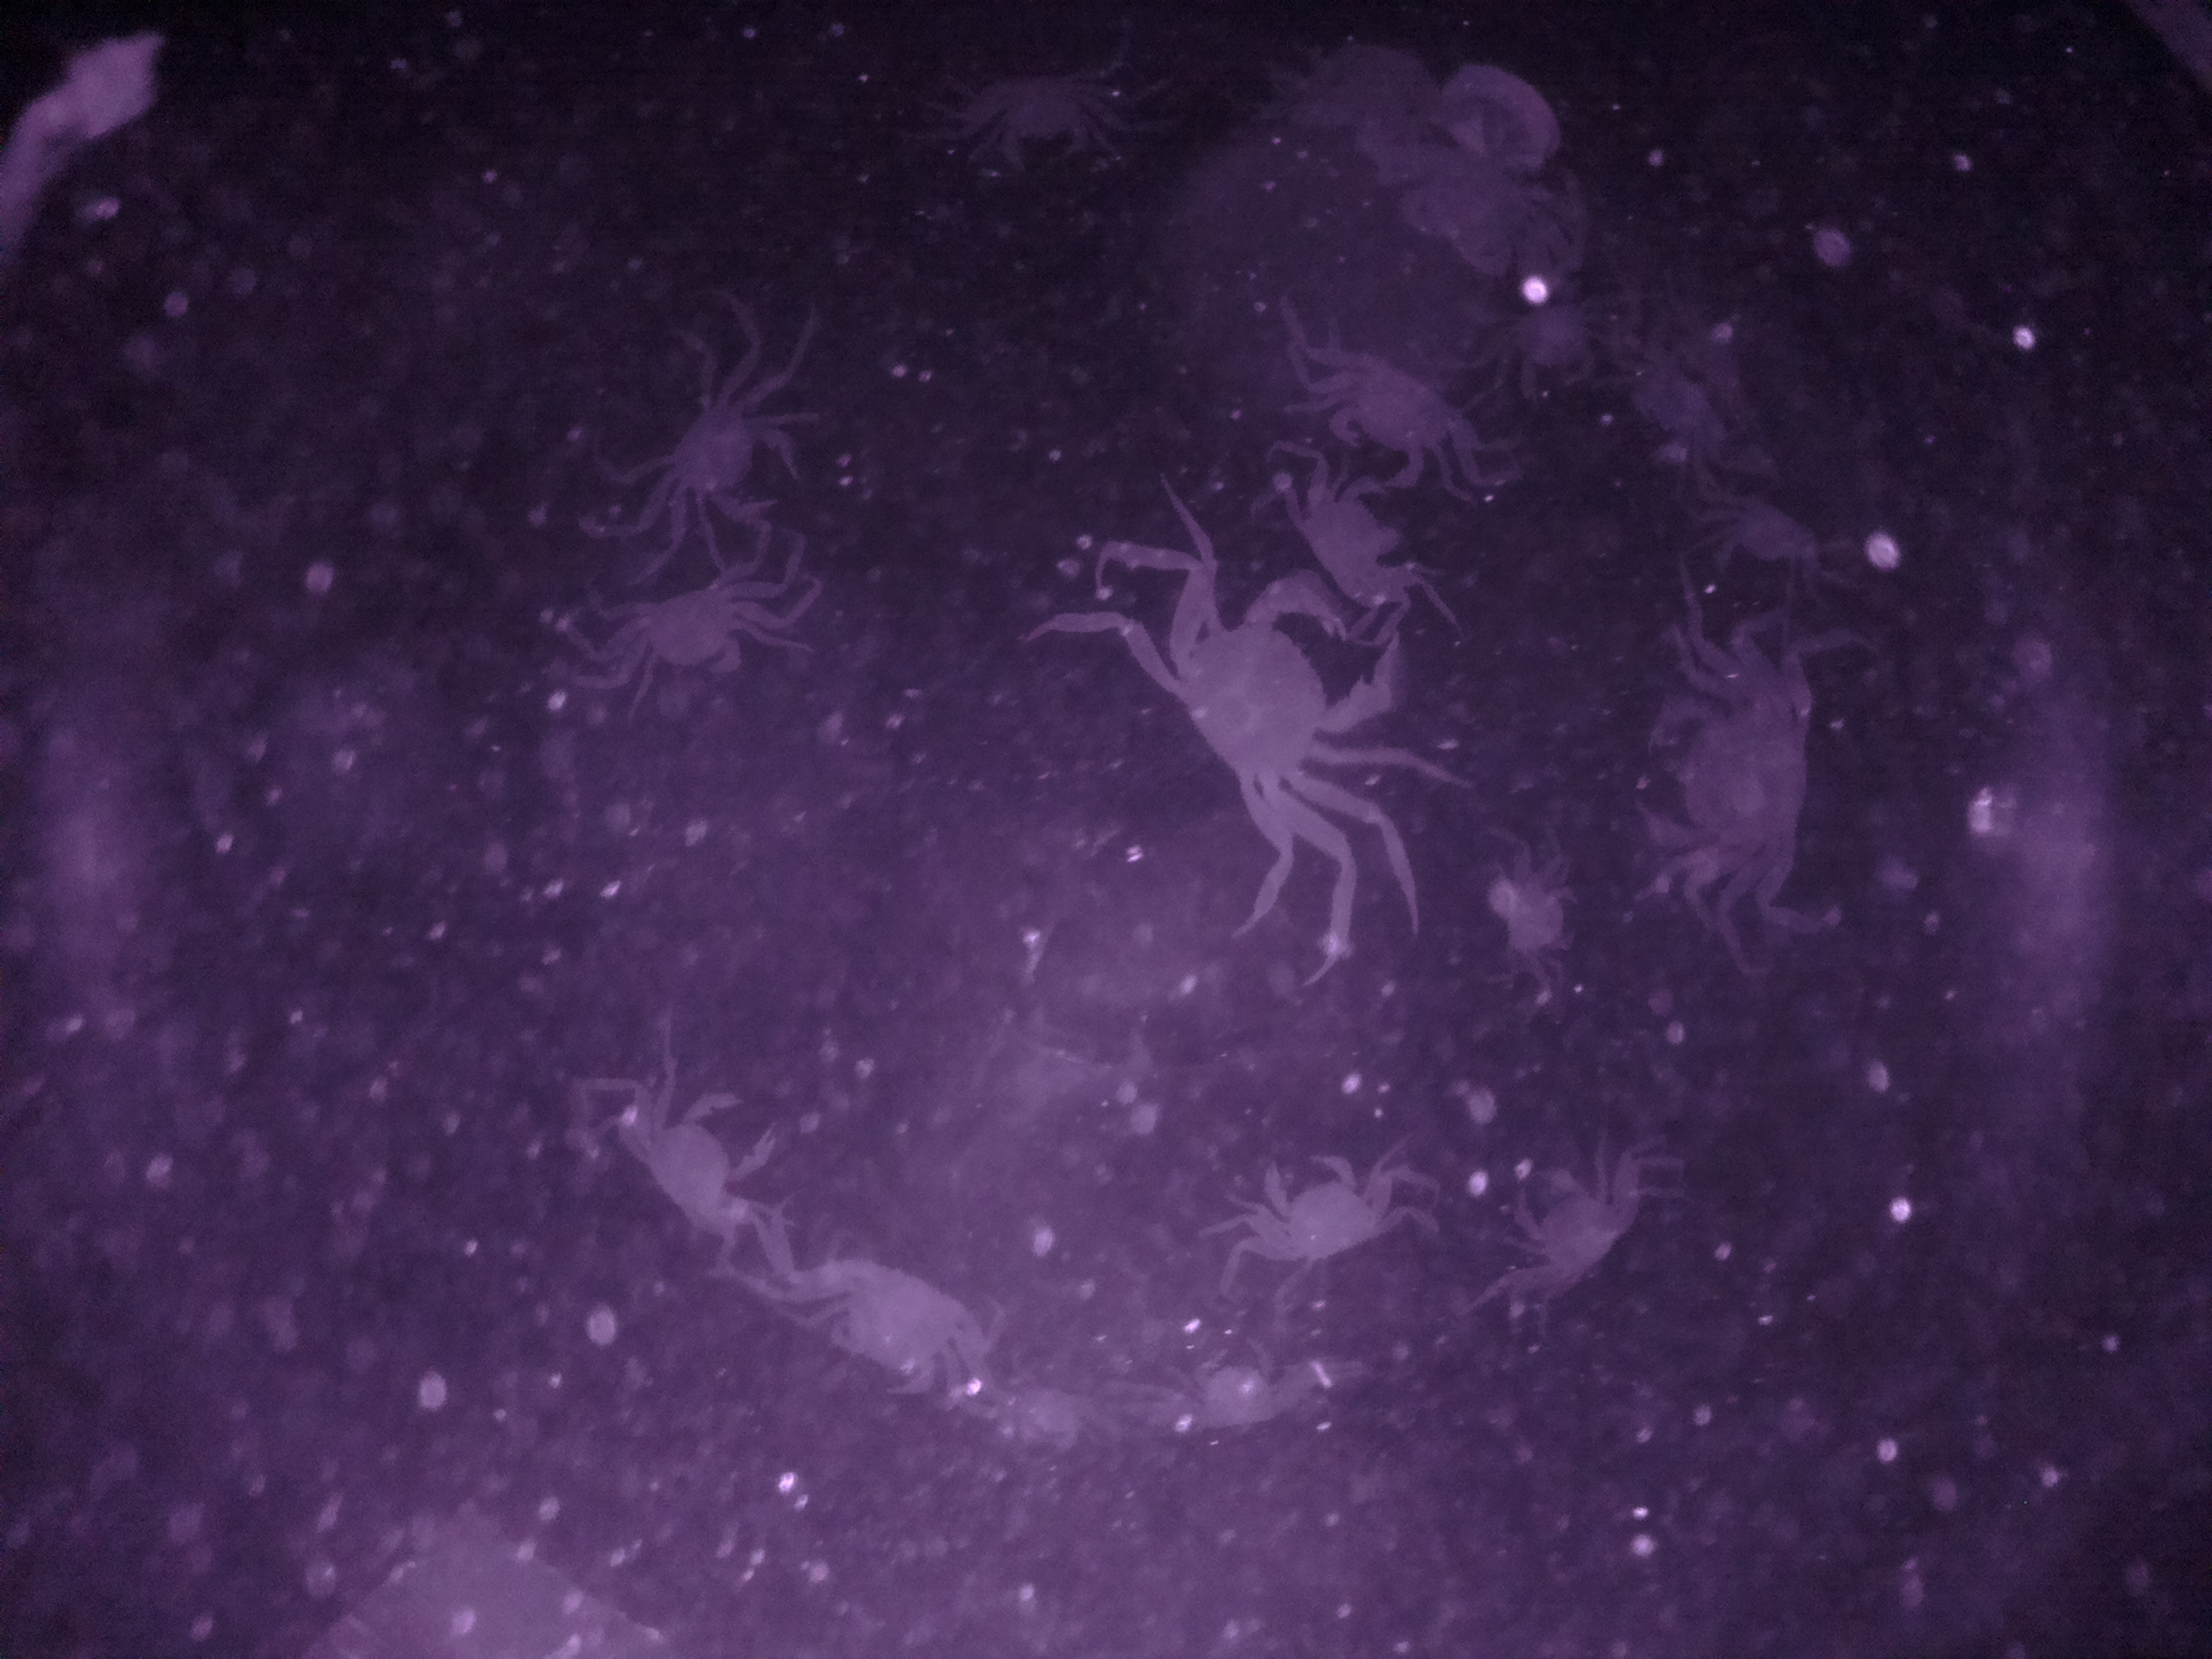Crab: (1148, 565, 1416, 849), (1625, 662, 1864, 915), (1308, 345, 1501, 509), (643, 380, 831, 547), (611, 1079, 786, 1255), (589, 570, 805, 697), (1487, 1141, 1649, 1307), (1224, 1143, 1413, 1277)
